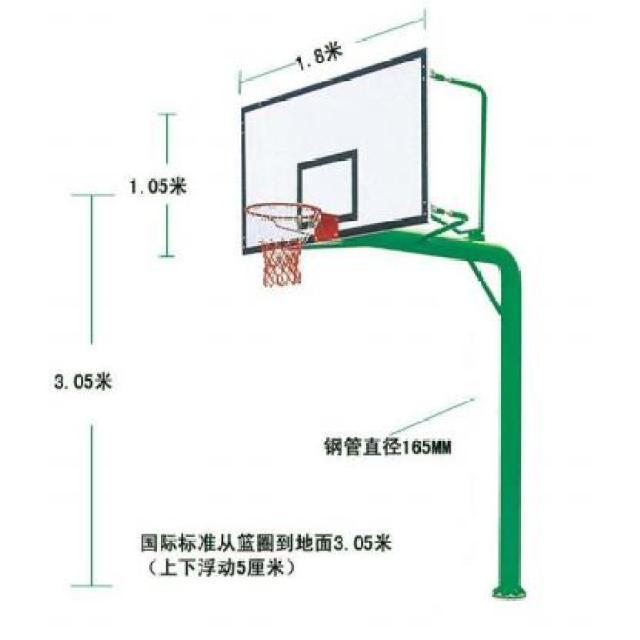rim: (243, 202, 320, 290)
